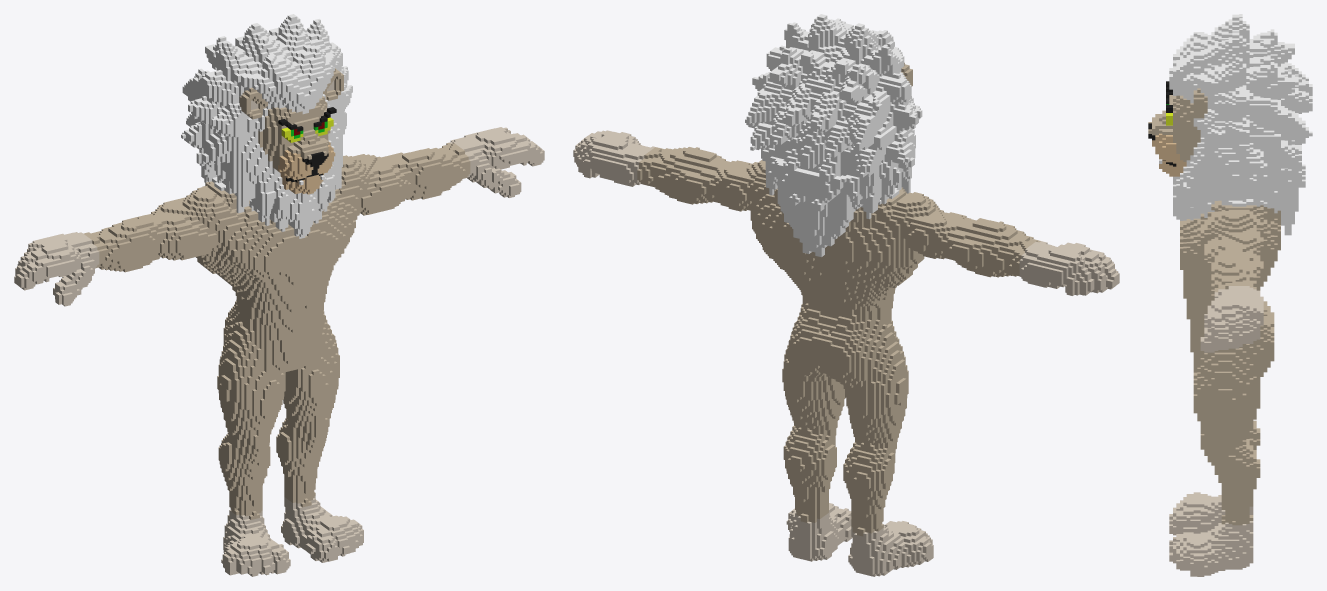
Rendered from 70-D46JKO_E.glb.
The picture shows the model from 3 angles, left to right: view 1: azimuth 30°, elevation 25°; view 2: azimuth 150°, elevation 25°; view 3: azimuth 270°, elevation 25°; orthographic projection. The views are drawn at different scales.
Visible parts, largest first — view 1: standard; view 2: standard; view 3: standard.
Boxes of the visible parts, x1=… form: standard: x1=14, y1=14, x2=544, y2=576; standard: x1=573, y1=14, x2=1119, y2=576; standard: x1=1148, y1=14, x2=1312, y2=576.
Bounding box in the file's own units: 17.2 × 16.5 × 4.7.
Materials: 4 (4 with a texture image).
